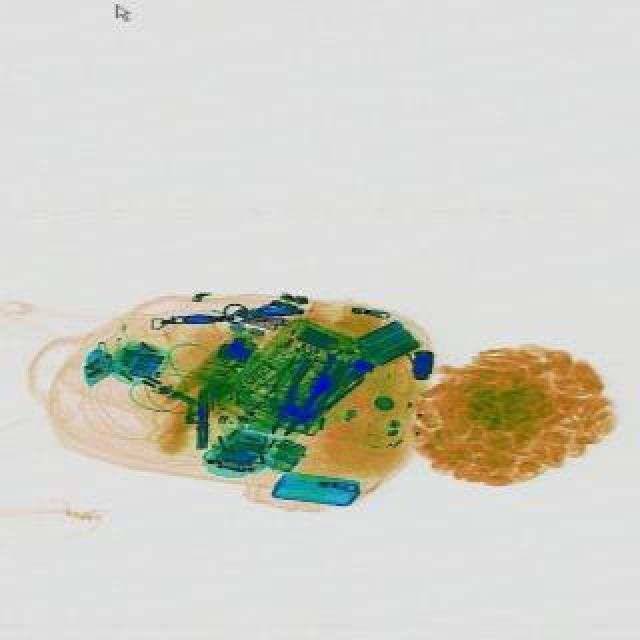scissors: (290, 344, 338, 436)
wrench: (260, 352, 344, 444)
